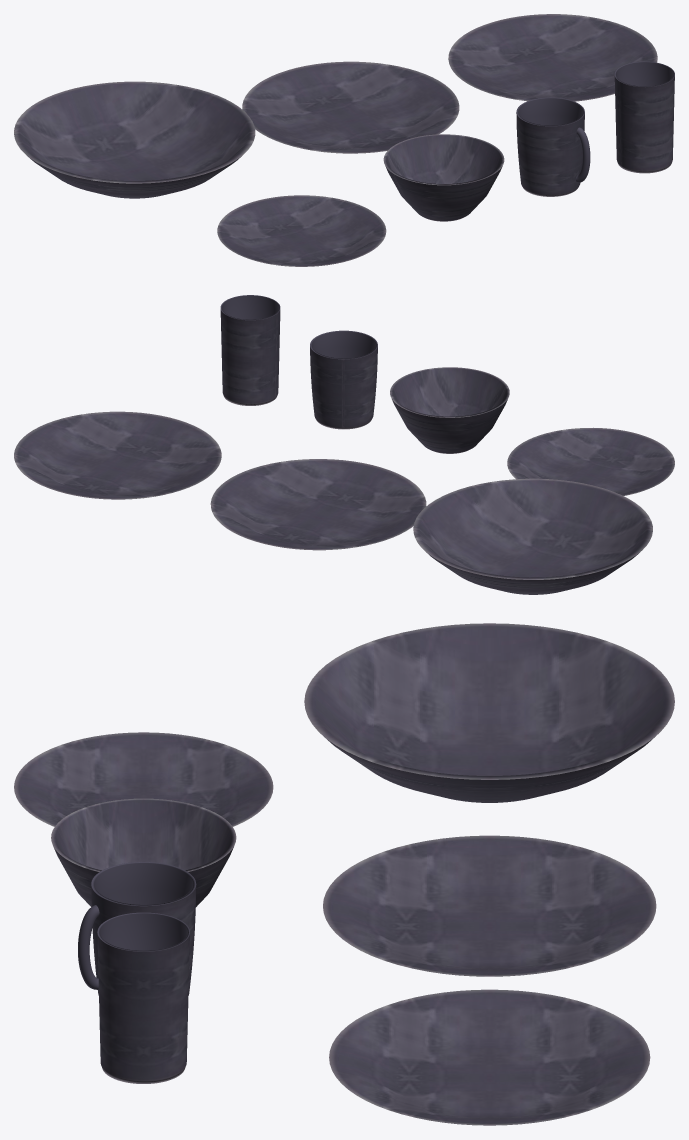
Rendered from COL-01.glb.
The picture shows the model from 3 angles, top to bottom: view 1: azimuth 30°, elevation 25°; view 2: azimuth 150°, elevation 25°; view 3: azimuth 270°, elevation 25°; orthographic projection. The views are drawn at different scales.
Bounding box in the file's own units: 0.88 × 0.12 × 0.535.
Materials: 15 (12 with a texture image).
